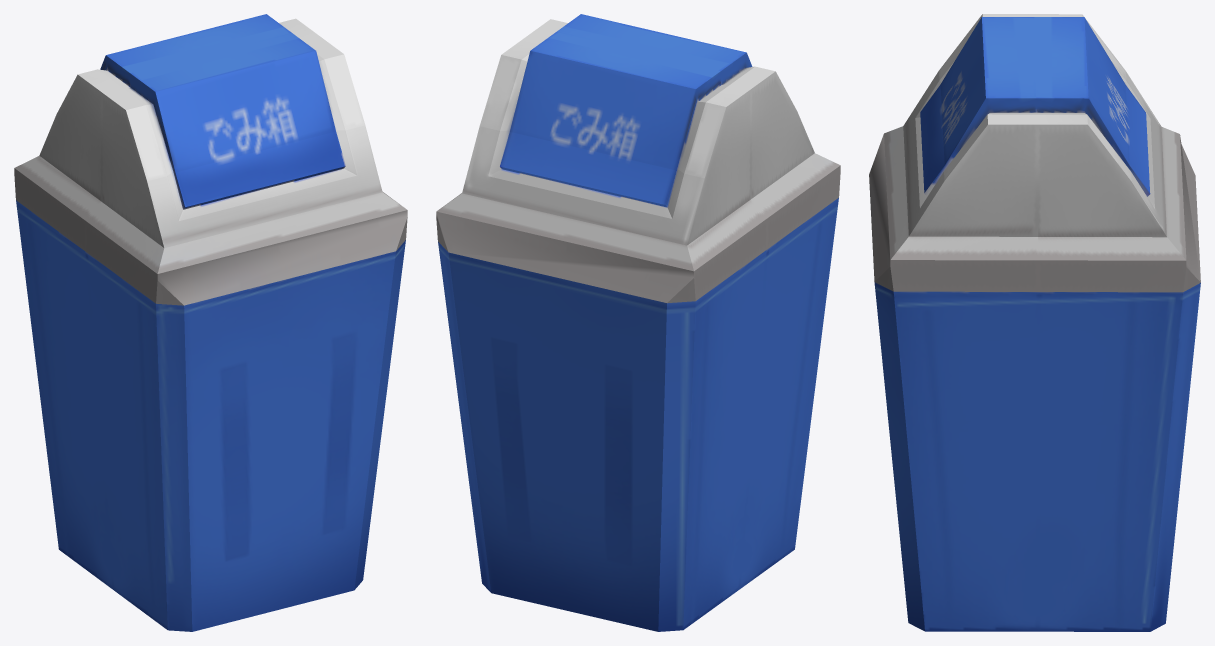
File: Net Cafe_Trash Can.fbx
3 renders of one model, left to right at view 1: azimuth 30°, elevation 25°; view 2: azimuth 150°, elevation 25°; view 3: azimuth 270°, elevation 25°, orthographic. The views are drawn at different scales.
Parts seen in each view (by area): view 1: Object002; view 2: Object002; view 3: Object002.
Part boxes in pixels (x1,y1,x2,y2): Object002: (14,14,407,631); Object002: (436,14,840,631); Object002: (869,14,1200,631).
Bounding box in the file's own units: 0.2244 × 0.4315 × 0.2475.
1 material, 1 textured.
